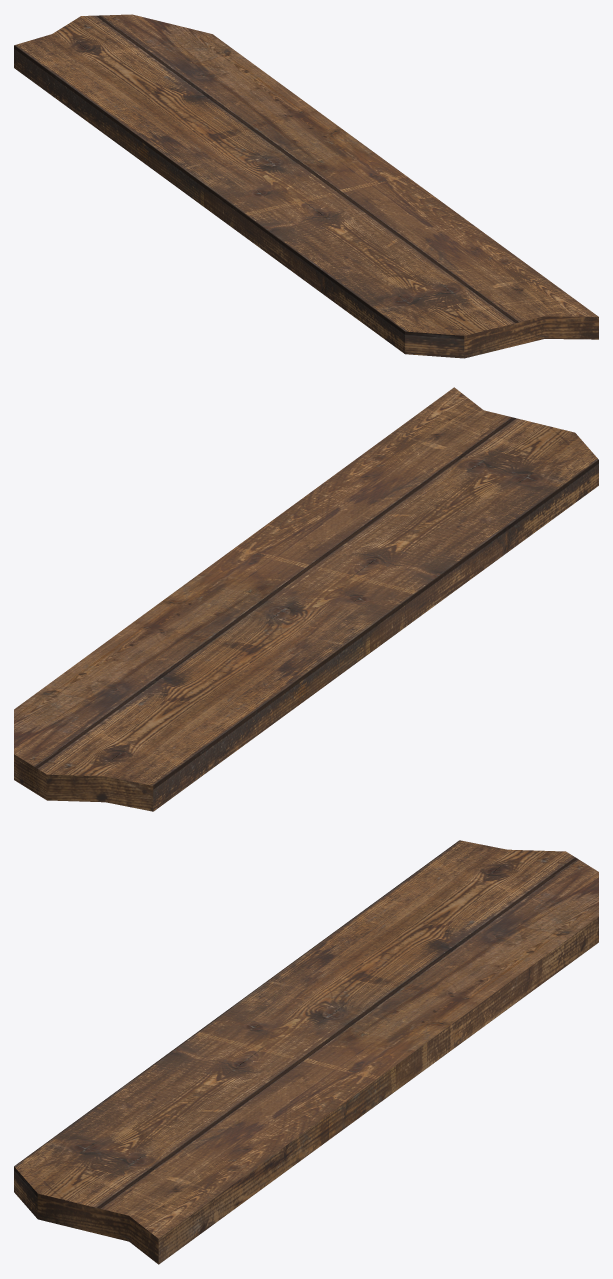
The model's file is plank_01.fbx.
The picture shows the model from 3 angles, top to bottom: view 1: azimuth 30°, elevation 25°; view 2: azimuth 150°, elevation 25°; view 3: azimuth 330°, elevation 25°; orthographic projection. The views are drawn at different scales.
Parts seen in each view (by area): view 1: plank_01; view 2: plank_01; view 3: plank_01.
Boxes of the visible parts, <box> form: plank_01: <box>14,14,598,358</box>; plank_01: <box>14,387,598,811</box>; plank_01: <box>14,840,598,1264</box>.
Bounding box in the file's own units: 7.41 × 1 × 35.
Materials: 1 (1 with a texture image).
